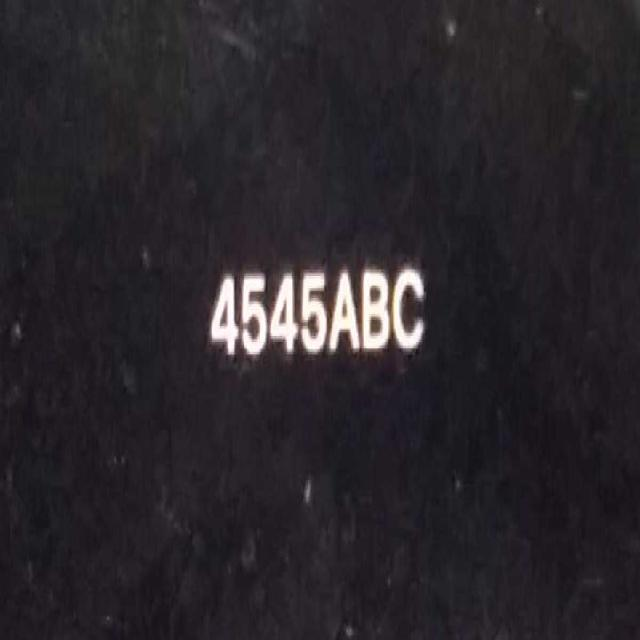license_plate: (200, 255, 430, 372)
